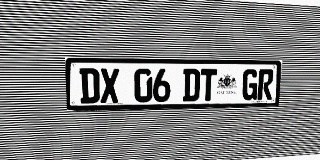0: (134, 68, 152, 102)
6: (153, 68, 171, 102)
D: (79, 68, 100, 104), (182, 69, 200, 101)
G: (241, 69, 259, 100)
R: (257, 69, 274, 100)
T: (200, 69, 217, 101)
X: (100, 68, 119, 103)
